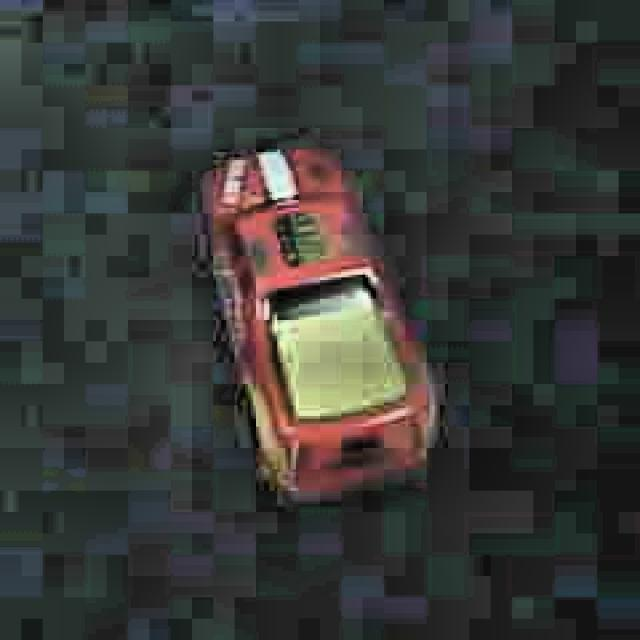car: (195, 133, 449, 513)
